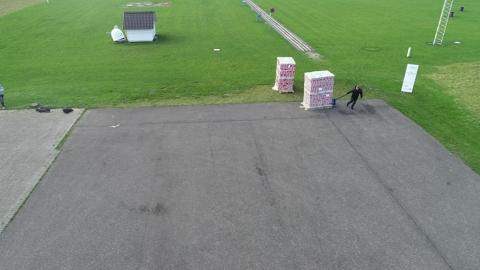RockwoolPallet: (276, 56, 295, 91)
